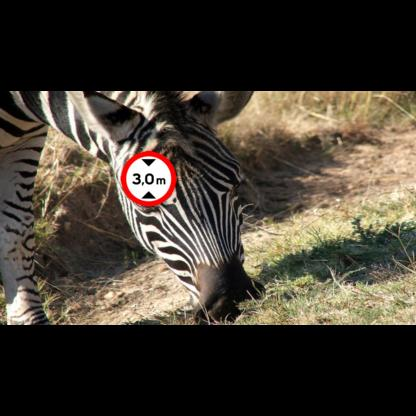R-15: (121, 151, 177, 206)
